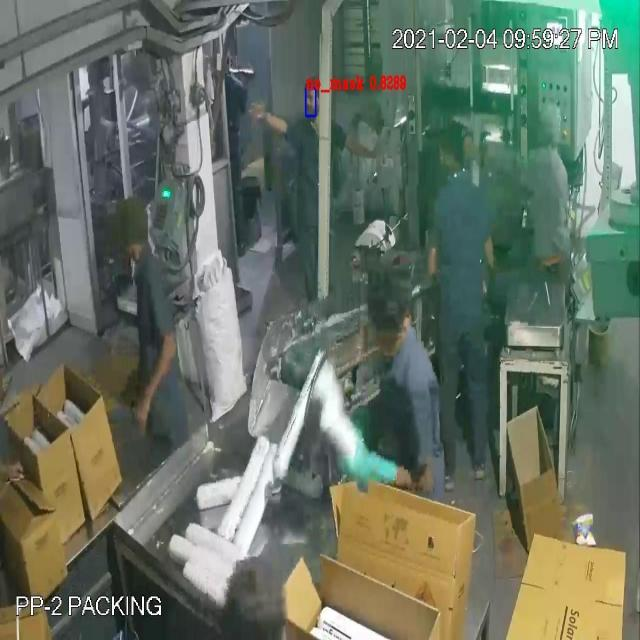No_Gloves: (14, 54, 389, 476)
